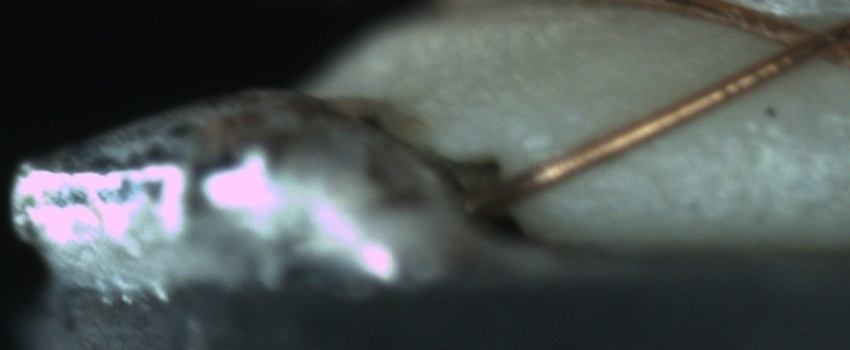CL: (766, 12, 847, 73)
